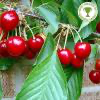Cherry leaf: (16, 50, 68, 99), (36, 6, 61, 34)
